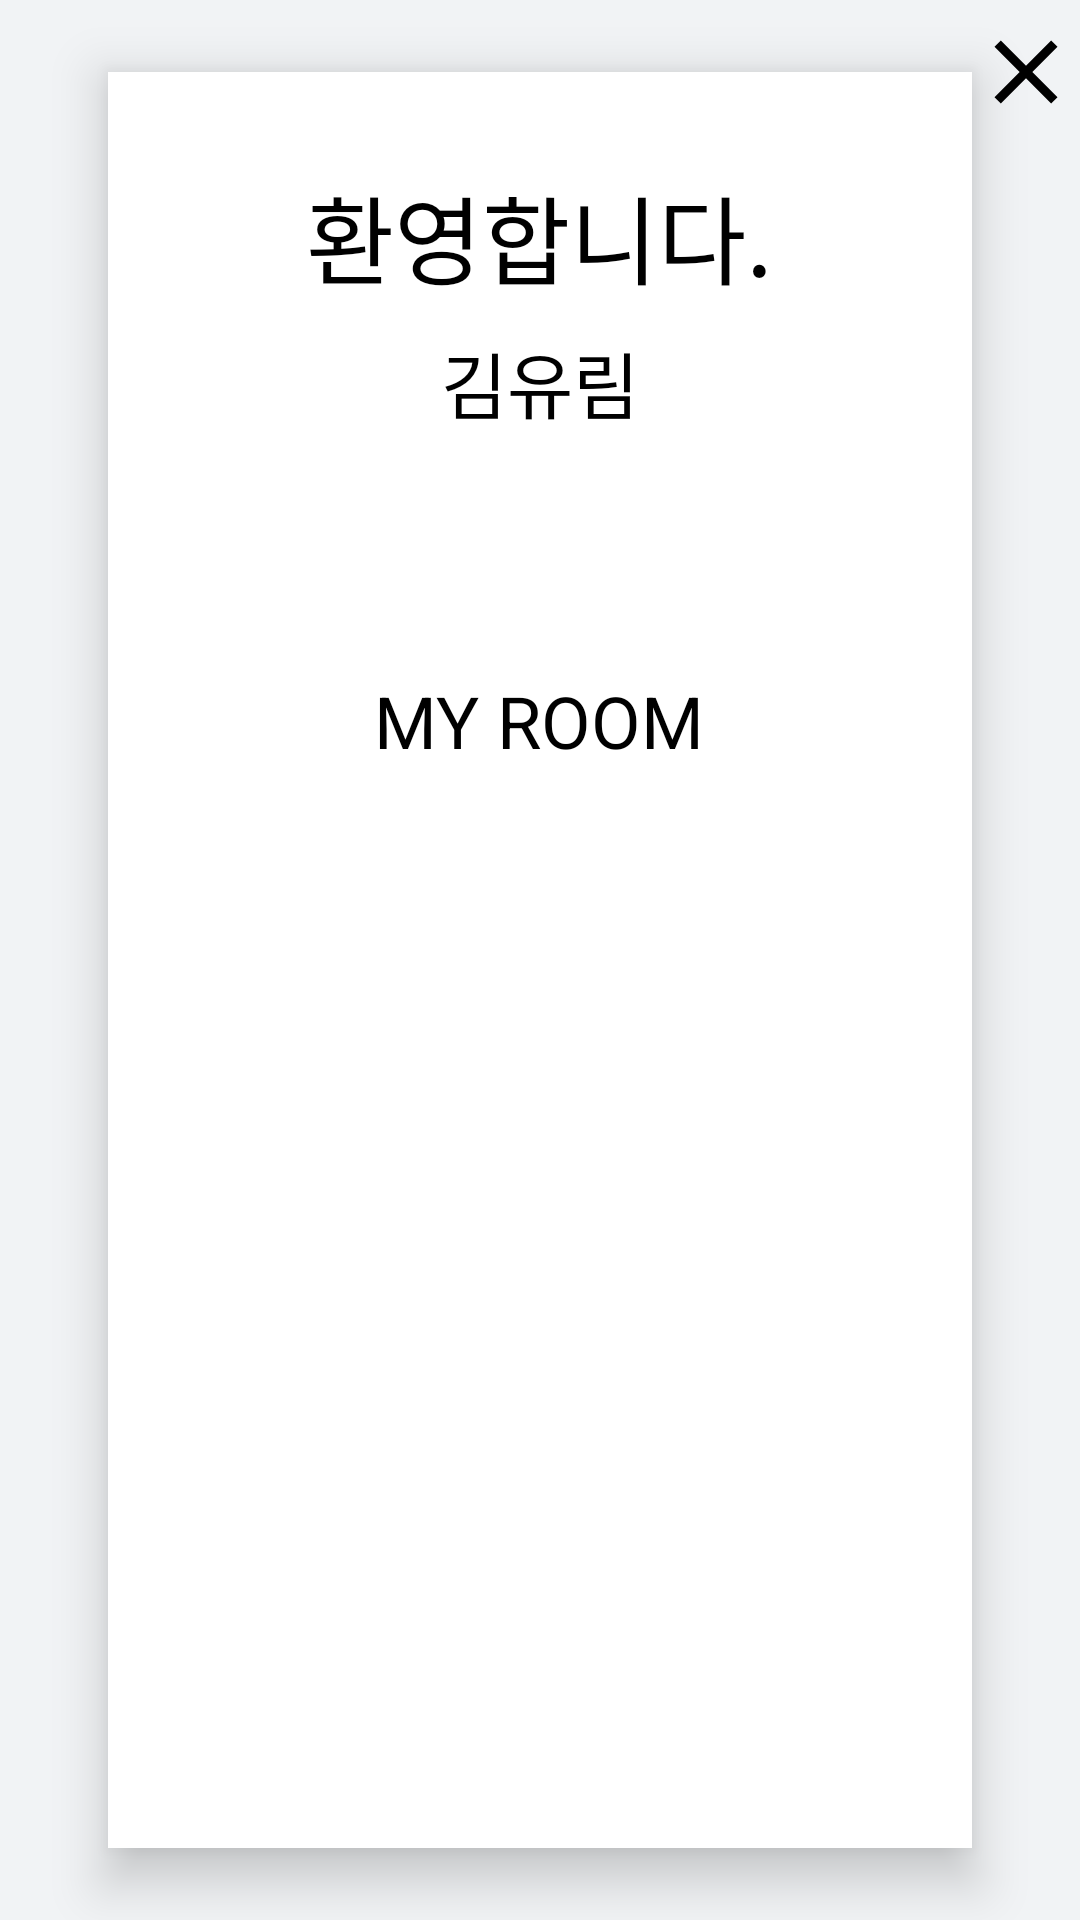

Named icons in this screenshot (1080w x 1920h) and their centers, (x=x, y=y):
close: (x=1026, y=72)
